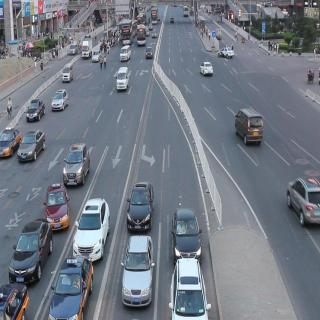BigCar: (122, 15, 133, 38), (136, 23, 146, 48)
Car: (168, 258, 215, 320), (124, 228, 152, 308), (58, 243, 84, 320), (289, 168, 320, 232), (15, 216, 44, 282), (74, 200, 108, 250), (172, 212, 205, 258), (128, 174, 152, 234), (232, 106, 264, 147), (44, 183, 70, 230), (69, 143, 86, 185), (21, 129, 44, 159), (28, 97, 43, 120), (52, 88, 70, 107), (117, 65, 129, 91), (120, 44, 134, 62)
